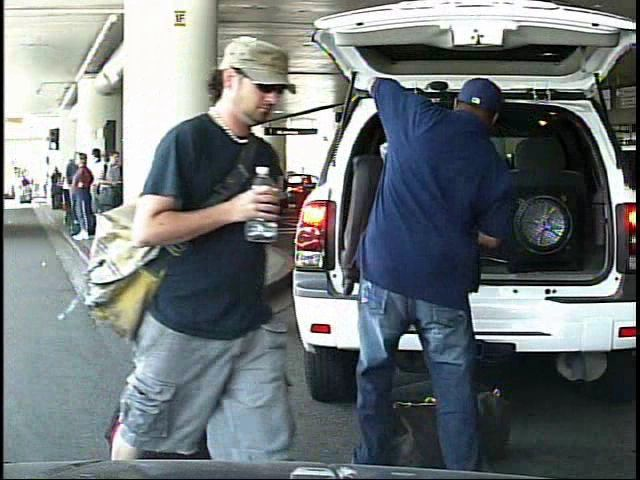person: (335, 37, 533, 479), (127, 21, 313, 480), (132, 124, 250, 350), (13, 174, 24, 205)
